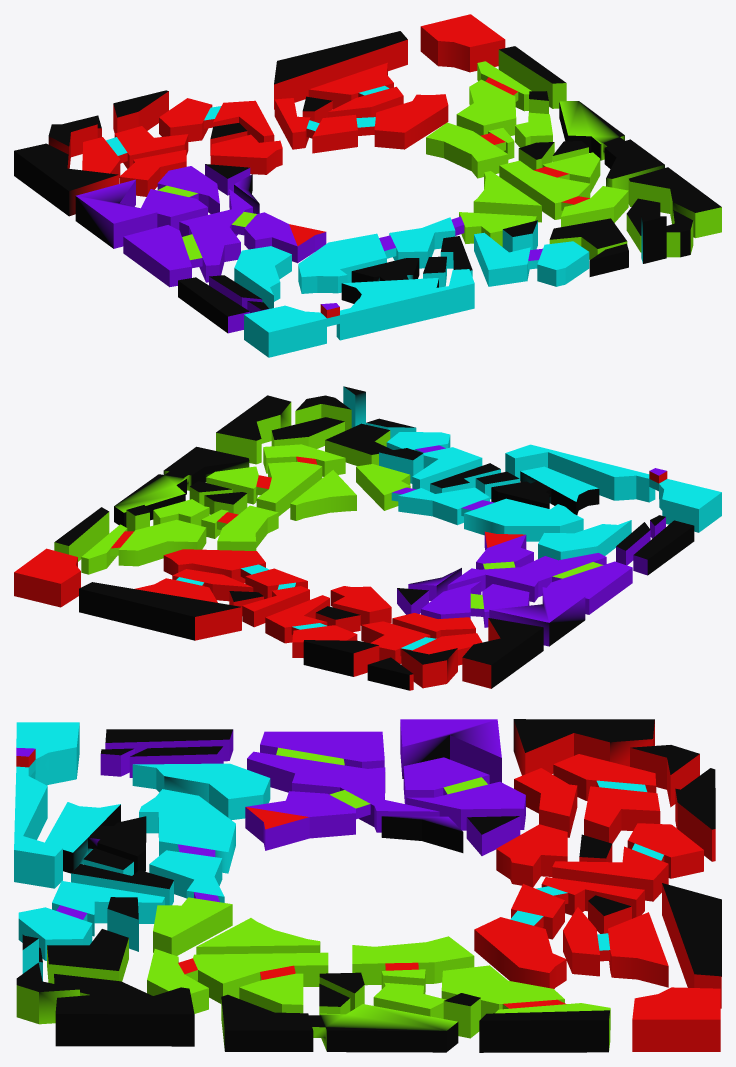
The model's file is Bottom_Floor_Detached_And_Clean.fbx.
The picture shows the model from 3 angles, top to bottom: view 1: azimuth 30°, elevation 25°; view 2: azimuth 150°, elevation 25°; view 3: azimuth 270°, elevation 25°; orthographic projection. The views are drawn at different scales.
Parts seen in each view (by area): view 1: Building_Bottom014, Building_Bottom018, Building_Bottom021, Building_Bottom046, Building_Bottom032, Building_Bottom043, Building_Bottom024, Building_Bottom034, Building_Bottom001, Building_Bottom042, Building_Bottom002, Building_Bottom039 (+29 smaller); view 2: Building_Bottom021, Building_Bottom014, Building_Bottom018, Building_Bottom043, Building_Bottom032, Building_Bottom046, Building_Bottom039, Building_Bottom001, Building_Bottom034, Building_Bottom020, Building_Bottom042, Building_Bottom031 (+31 smaller); view 3: Building_Bottom014, Building_Bottom021, Building_Bottom034, Building_Bottom046, Building_Bottom032, Building_Bottom018, Building_Bottom031, Building_Bottom005, Building_Bottom001, Building_Bottom009, Building_Bottom003, Building_Bottom044 (+33 smaller).
Boxes of the visible parts, x1,y1,x2,y2 form: Building_Bottom014: (123, 189, 326, 287); Building_Bottom018: (244, 269, 474, 357); Building_Bottom021: (298, 212, 536, 293); Building_Bottom046: (274, 94, 448, 153); Building_Bottom032: (499, 152, 628, 227); Building_Bottom043: (274, 31, 407, 109); Building_Bottom024: (474, 232, 589, 286); Building_Bottom034: (559, 101, 664, 190); Building_Bottom001: (14, 143, 118, 216); Building_Bottom042: (420, 14, 505, 72); Building_Bottom002: (75, 179, 157, 248); Building_Bottom039: (456, 61, 531, 136); Building_Bottom021: (356, 464, 583, 541); Building_Bottom014: (447, 531, 632, 614); Building_Bottom018: (505, 444, 721, 532); Building_Bottom043: (79, 582, 241, 640); Building_Bottom032: (206, 444, 345, 516); Building_Bottom046: (163, 549, 309, 627); Building_Bottom039: (81, 519, 206, 574); Building_Bottom001: (462, 618, 543, 688); Building_Bottom034: (114, 446, 249, 527); Building_Bottom020: (491, 466, 599, 514); Building_Bottom042: (14, 548, 80, 607); Building_Bottom031: (216, 395, 291, 464); Building_Bottom014: (245, 731, 439, 850); Building_Bottom021: (139, 789, 235, 955); Building_Bottom034: (221, 994, 458, 1052); Building_Bottom046: (474, 877, 644, 988); Building_Bottom032: (147, 949, 328, 1013); Building_Bottom018: (14, 722, 79, 888); Building_Bottom031: (55, 987, 194, 1046); Building_Bottom005: (553, 754, 660, 843); Building_Bottom001: (513, 719, 654, 775); Building_Bottom009: (552, 823, 703, 901); Building_Bottom003: (403, 757, 525, 830); Building_Bottom044: (563, 907, 668, 987).
Size of the model in its own units: 181 by 15 by 179.
